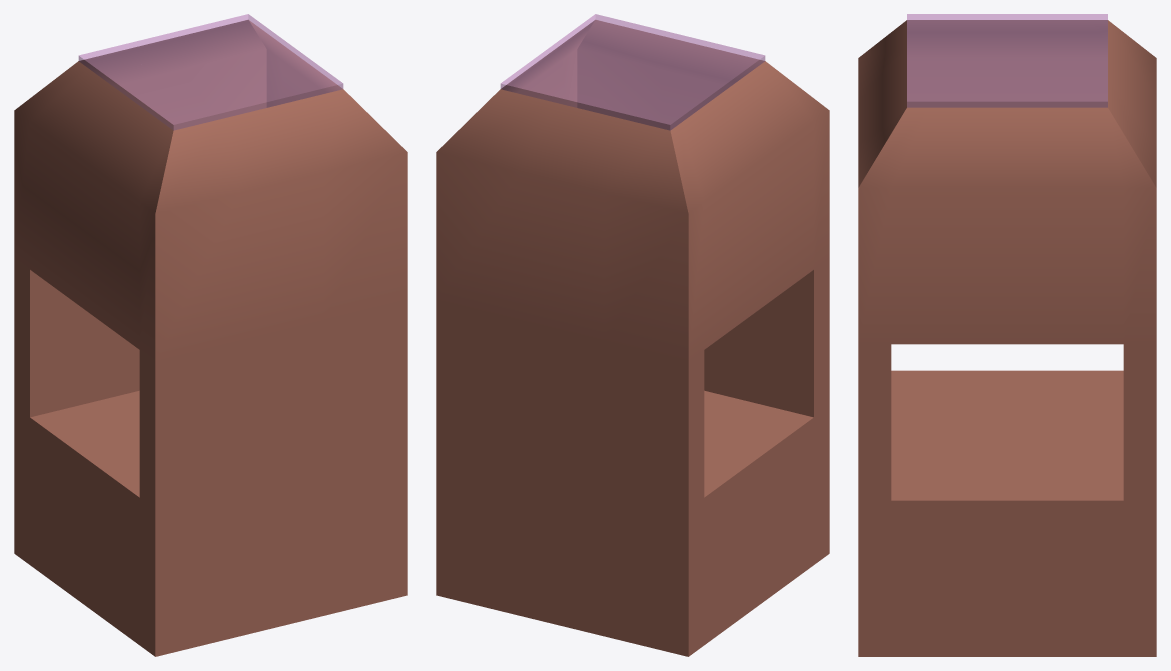
Rendered from Left_building.fbx.
The picture shows the model from 3 angles, left to right: view 1: azimuth 30°, elevation 25°; view 2: azimuth 150°, elevation 25°; view 3: azimuth 270°, elevation 25°; orthographic projection. The views are drawn at different scales.
Parts seen in each view (by area): view 1: Deco_Building_2; view 2: Deco_Building_2; view 3: Deco_Building_2.
Boxes of the visible parts, <box> form: Deco_Building_2: <box>14,14,407,656</box>; Deco_Building_2: <box>436,14,829,656</box>; Deco_Building_2: <box>858,14,1156,656</box>.
Bounding box in the file's own units: 24.21 × 46.34 × 23.46.
